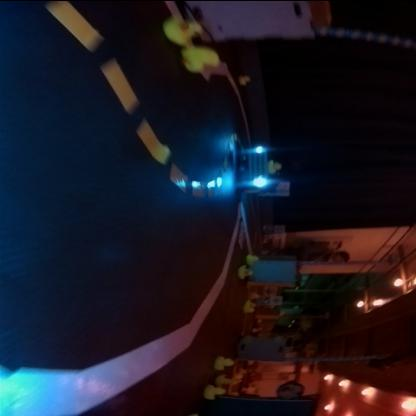Duckie: (164, 15, 202, 43), (182, 46, 220, 70), (204, 383, 226, 398), (216, 356, 234, 368), (238, 264, 252, 278), (217, 373, 231, 384), (270, 158, 282, 170), (239, 74, 251, 83), (249, 252, 259, 262), (245, 303, 255, 311), (248, 300, 256, 304)
Duckiebot: (242, 146, 274, 192)
